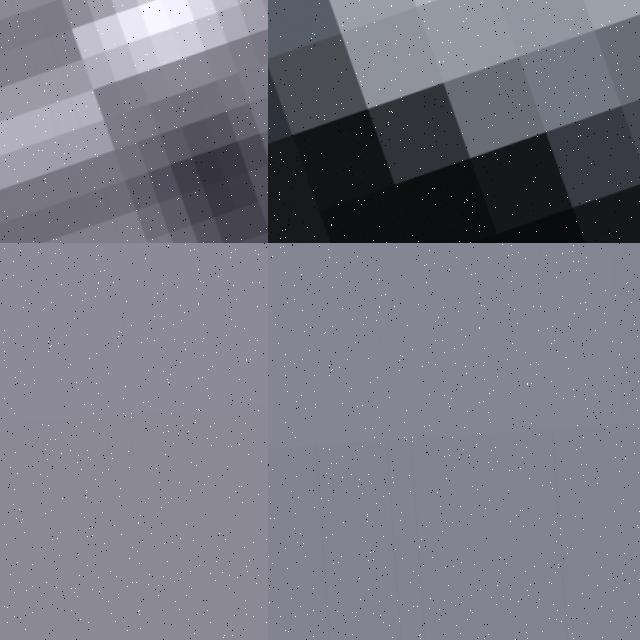drone: (268, 0, 640, 243), (0, 0, 268, 243)
